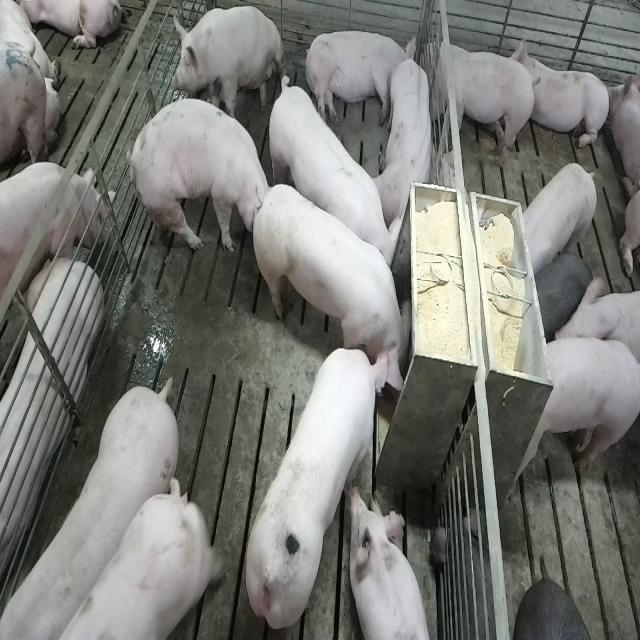Feeding: (243, 343, 393, 631), (248, 174, 411, 388)
Lateral_lying: (0, 250, 101, 604), (303, 28, 417, 127)
Sitting: (171, 6, 285, 125)
Standing: (0, 380, 177, 640), (27, 480, 218, 640), (265, 72, 398, 281), (126, 95, 273, 263), (507, 337, 638, 495), (422, 30, 537, 171), (0, 165, 107, 306), (515, 161, 599, 278)
Sternal_lying: (350, 485, 434, 640), (516, 36, 612, 153), (376, 53, 436, 228)
